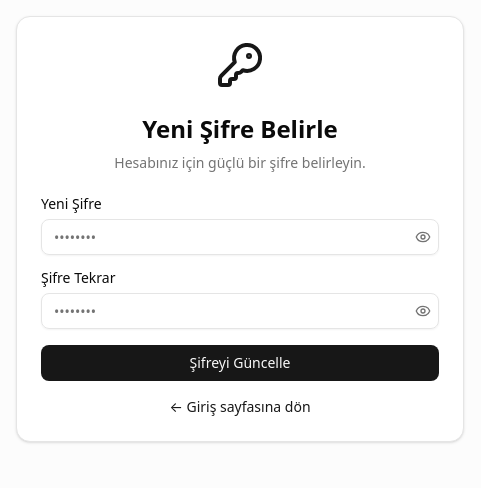
Test: ResetPassword sayfası › şifreler eşleşmediğinde validation hatası göstermeli
Type "NewPassword1" into the password field labelled "Yeni Şifre" at (240, 237), box [41,219,439,255]
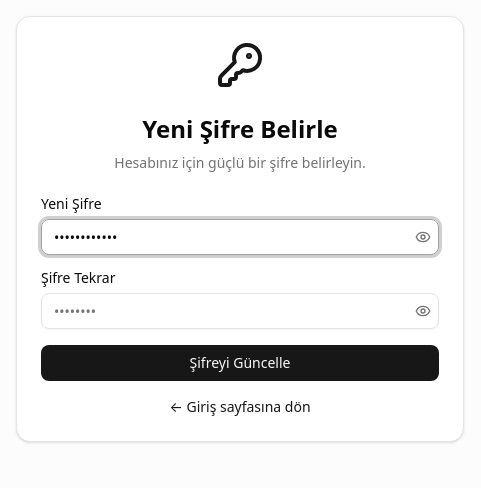
Type "DifferentPassword1" into the password field labelled "Şifre Tekrar" at (240, 311), box [41,293,439,329]
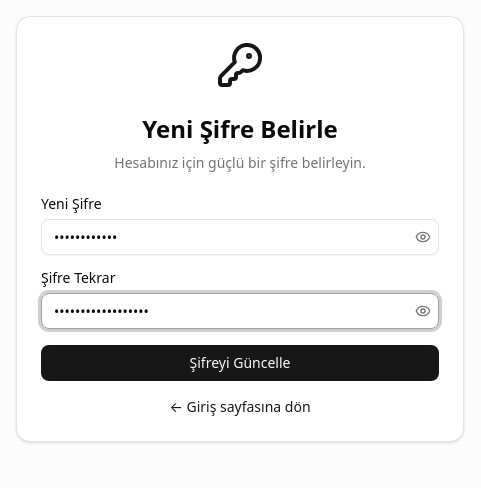
Click the button "Şifreyi Güncelle" at (240, 363), box [41,345,439,381]
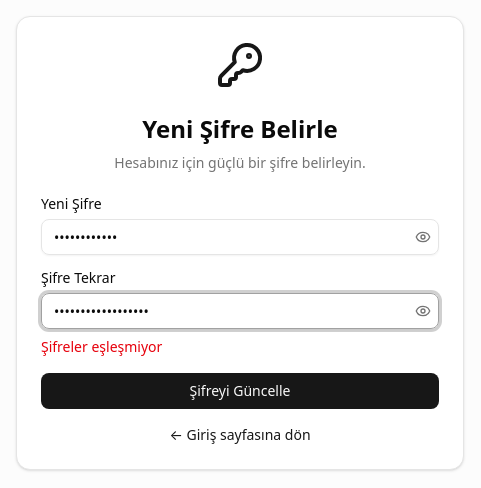
Now the text "Şifreler eşleşmiyor" is shown, box [41,337,162,356]
